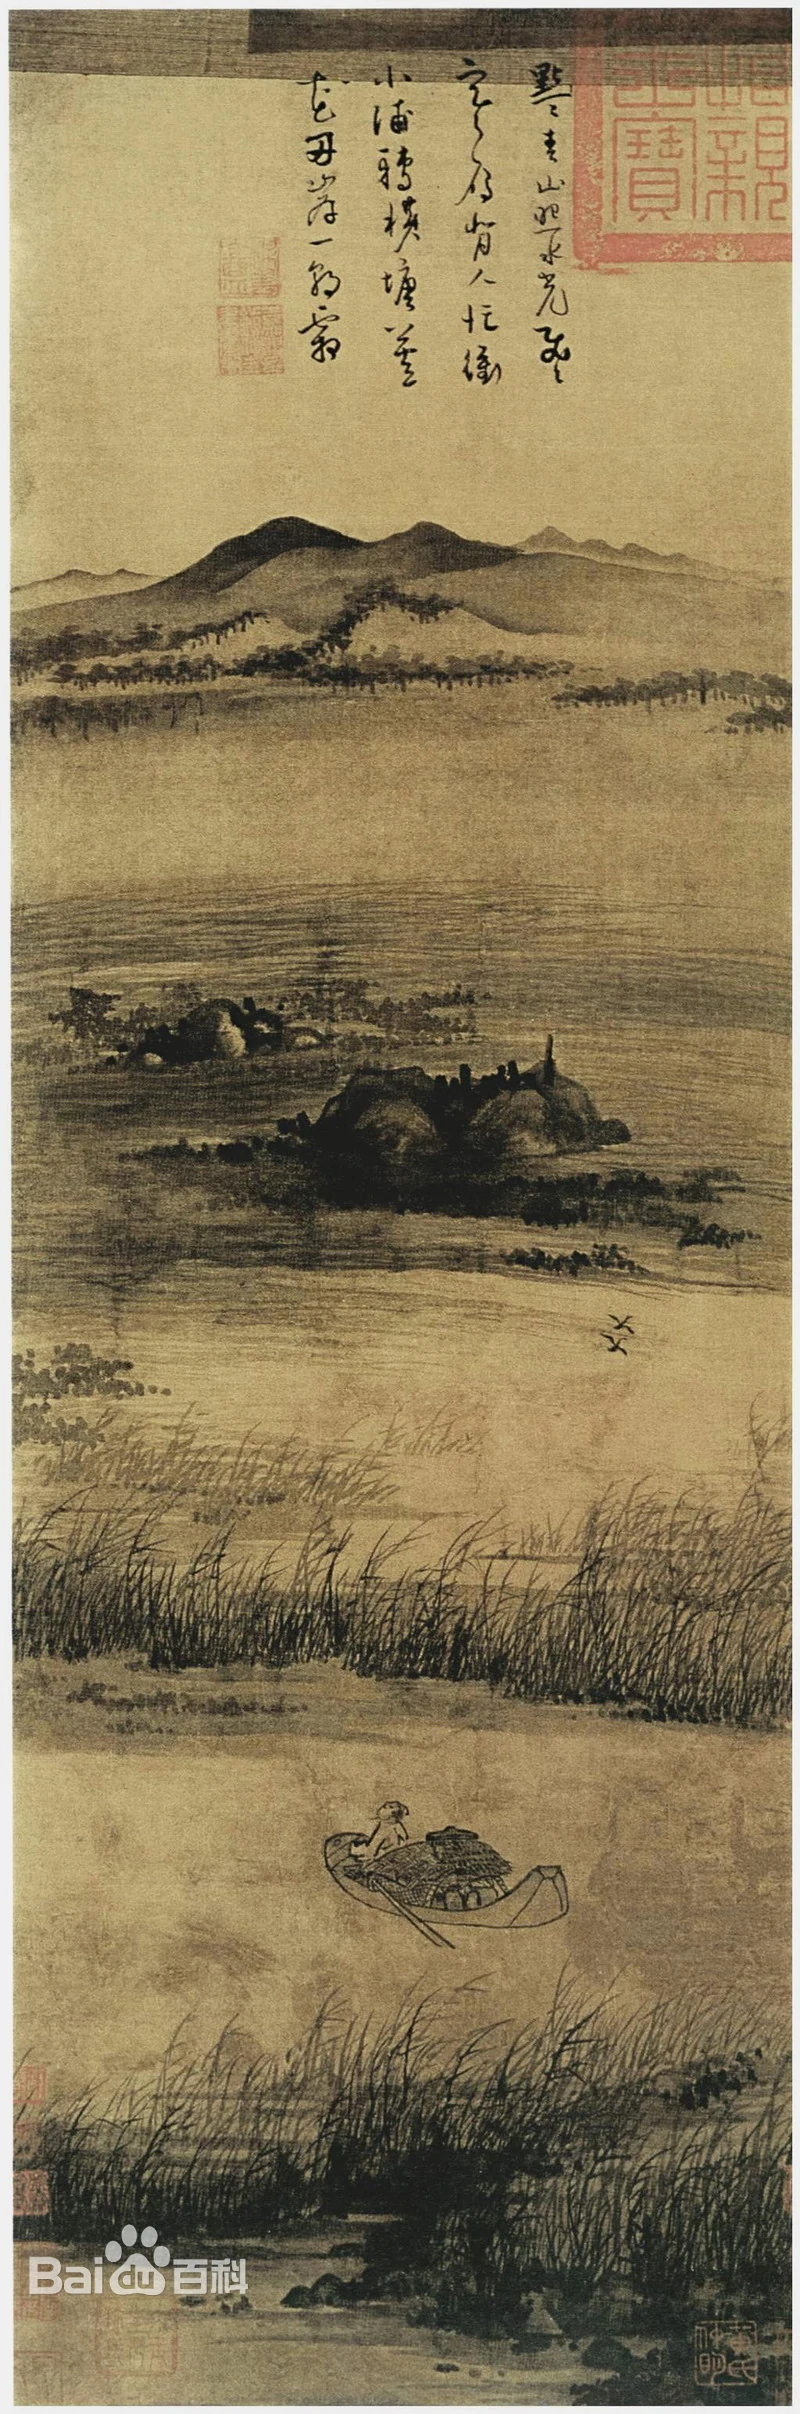boat: (318, 1786, 605, 1966)
grass: (57, 2031, 800, 2342), (20, 1496, 800, 1747)
range: (51, 497, 758, 671)
rock: (340, 1068, 626, 1192), (105, 978, 351, 1081)
